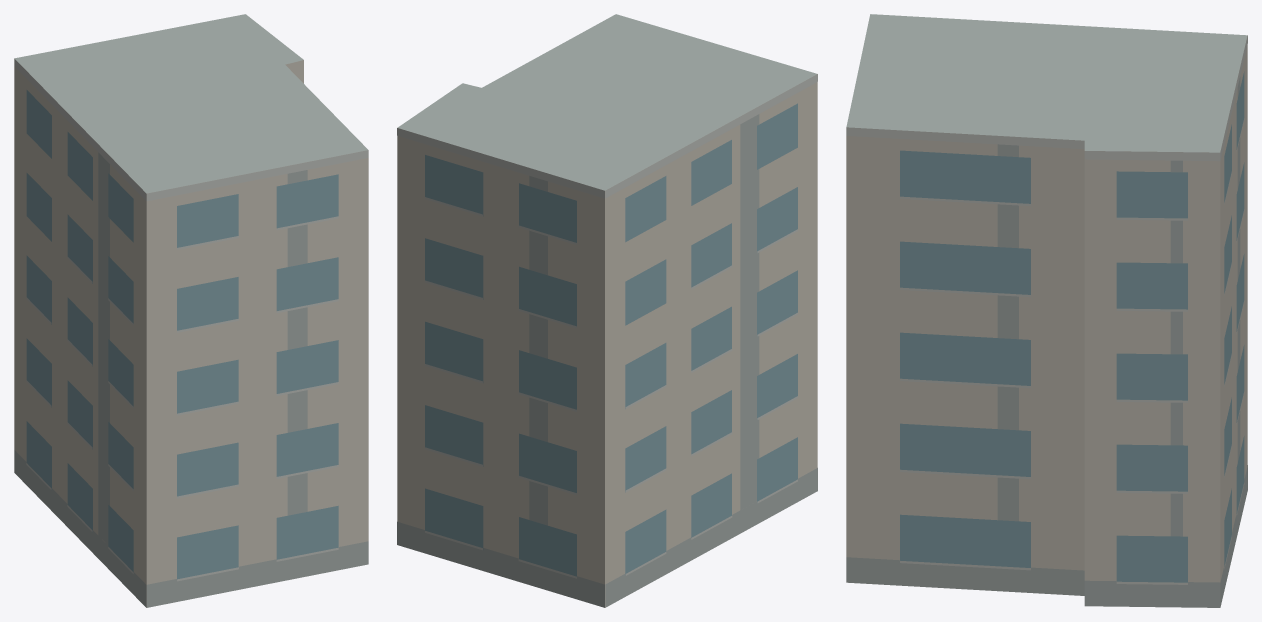
File: survey-upis-33007014.glb
3 renders of one model, left to right at view 1: azimuth 30°, elevation 25°; view 2: azimuth 150°, elevation 25°; view 3: azimuth 270°, elevation 25°, orthographic. The views are drawn at different scales.
Visible parts, largest first — view 1: survey-upis-33007014.tmp; view 2: survey-upis-33007014.tmp; view 3: survey-upis-33007014.tmp.
Part boxes in pixels (box(x1,y1,x2,y2)): survey-upis-33007014.tmp: box(14, 14, 368, 607); survey-upis-33007014.tmp: box(397, 14, 817, 607); survey-upis-33007014.tmp: box(846, 14, 1247, 607).
Size of the model in its own units: 8.43 by 12.9 by 10.32.
